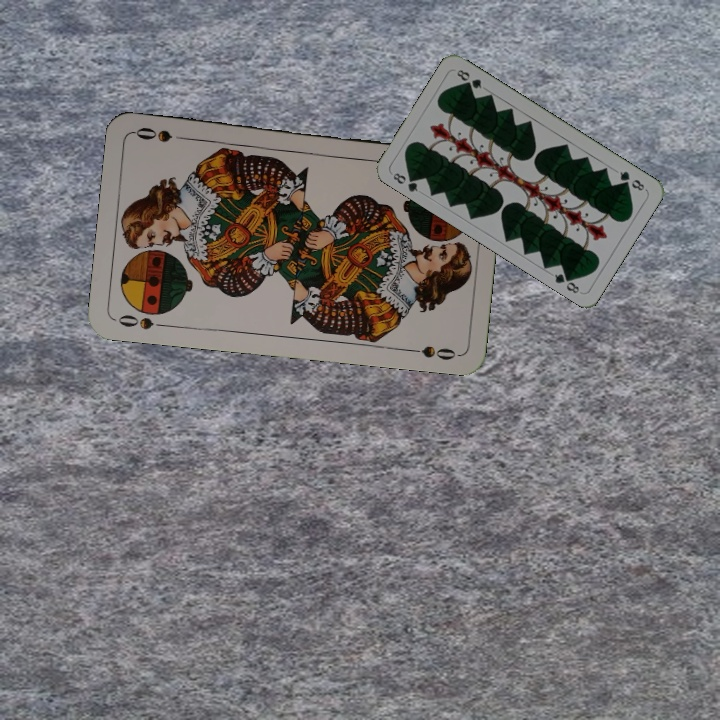G8: (616, 167, 648, 193), (389, 169, 421, 195)
SO: (112, 311, 171, 332)
